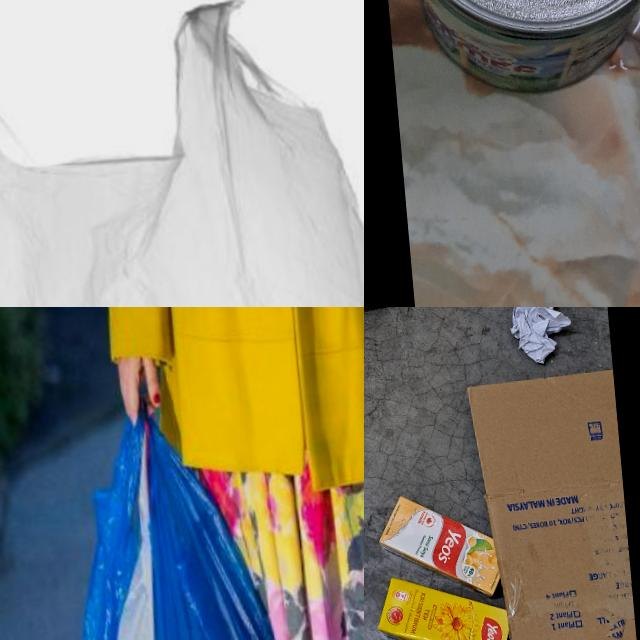caixinha: (377, 488, 502, 608), (373, 567, 513, 640)
lata: (389, 0, 640, 107)
papel: (509, 307, 574, 366)
papelão: (463, 367, 640, 640)
sacola plástica: (0, 0, 364, 307), (30, 398, 306, 640)
